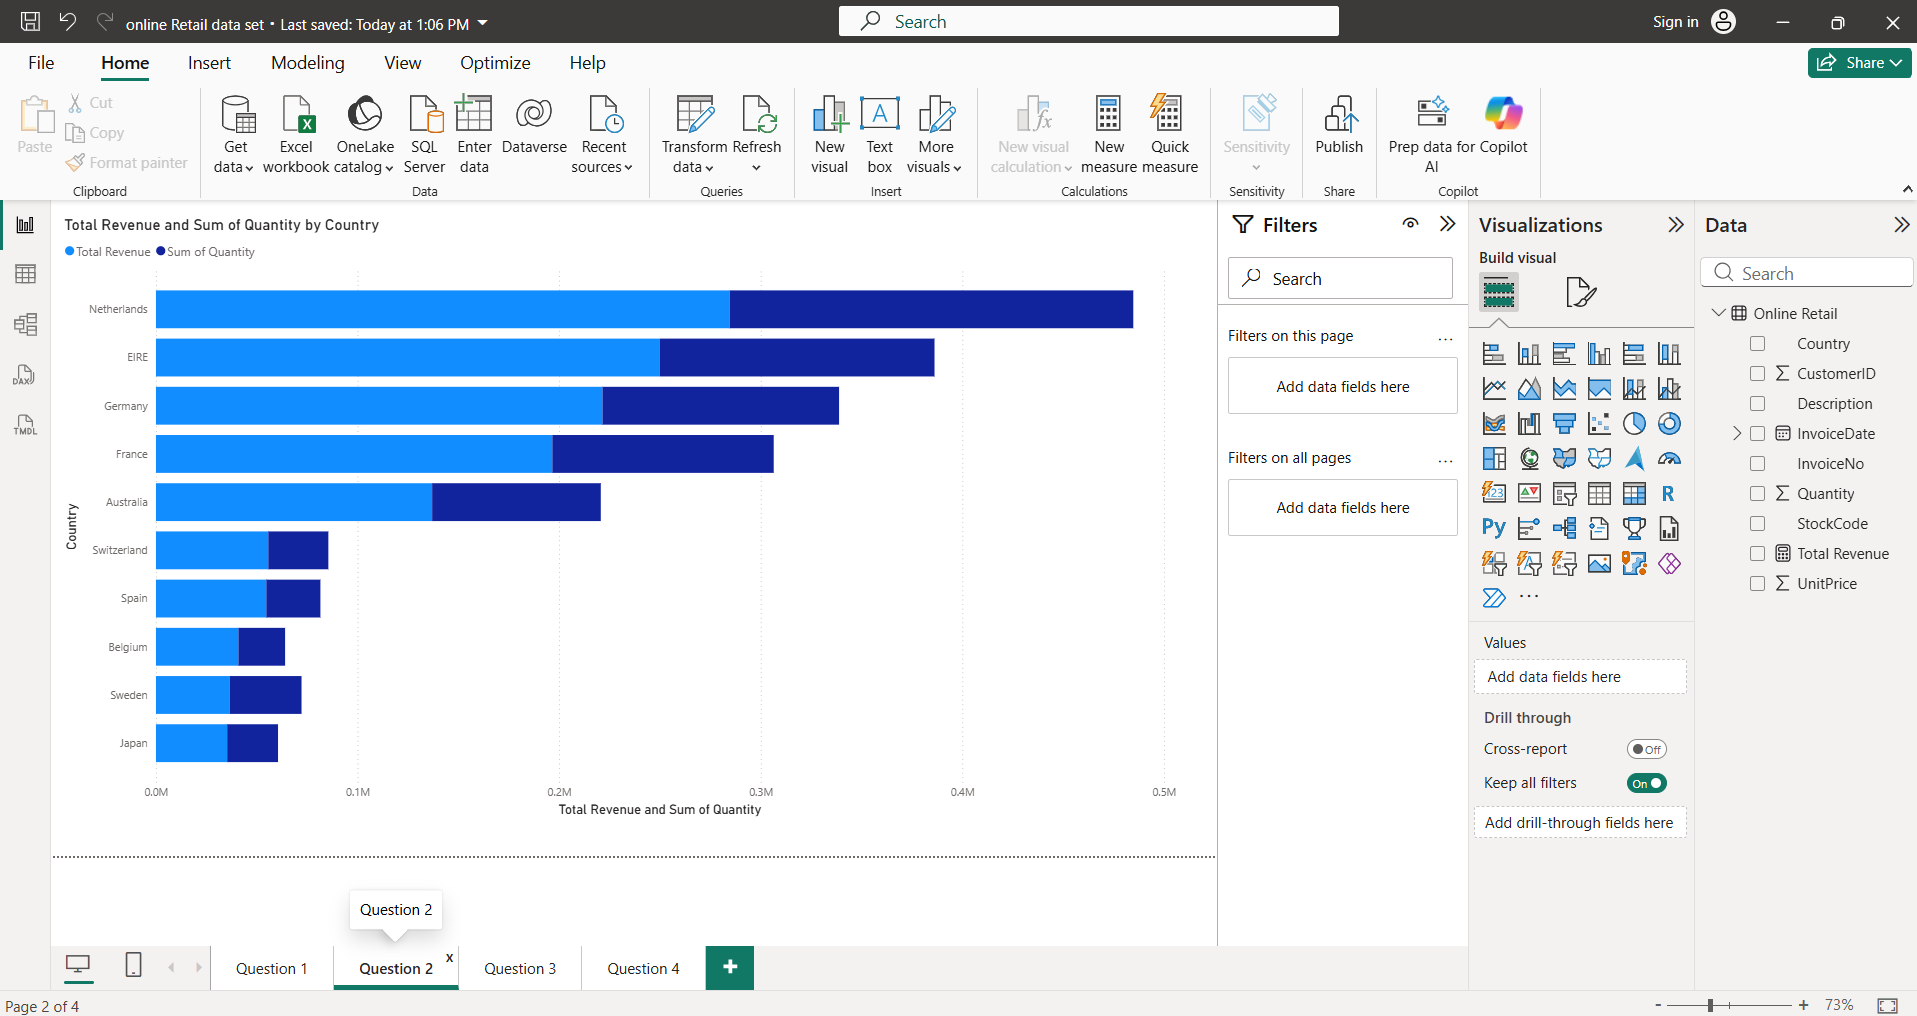

The dashboard page shown, as its layout file describes it:
{"tool":"powerbi","page":{"name":"Question 2 ","canvas":[1280,720],"ordinal":1},"visuals":[{"type":"barChart","fields":{"Y":["Online Retail.Total Revenue","Sum(Online Retail.Quantity)"],"Category":["Online Retail.Country"]},"box":[9.7,16.5,1231.4,665.3],"z":0}]}

Visuals, with their boxes on the page's 1280x720 design canvas (x1, y1, x2, y2). These are canvas units, not pixel positions in the 1917x1016 screenshot, which may show the page scaled, cropped or inside an application window:
barChart - Online Retail.Total Revenue x Sum(Online Retail.Quantity): (left=10, top=16, right=1241, bottom=682)
